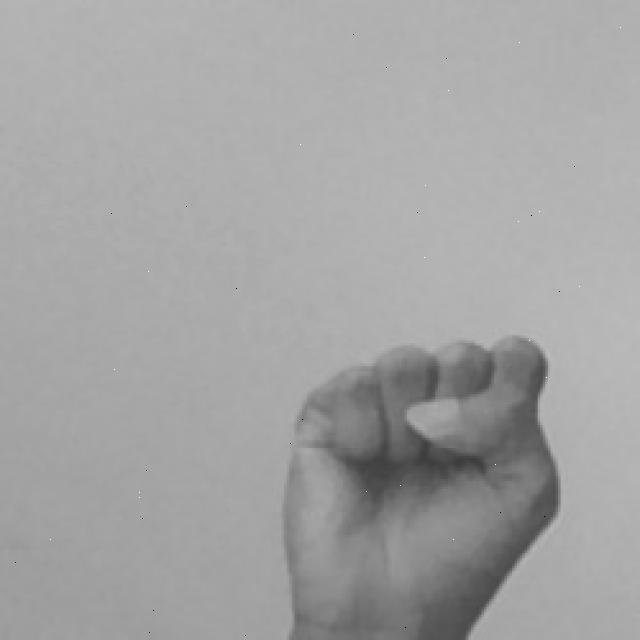S: (271, 327, 570, 640)
